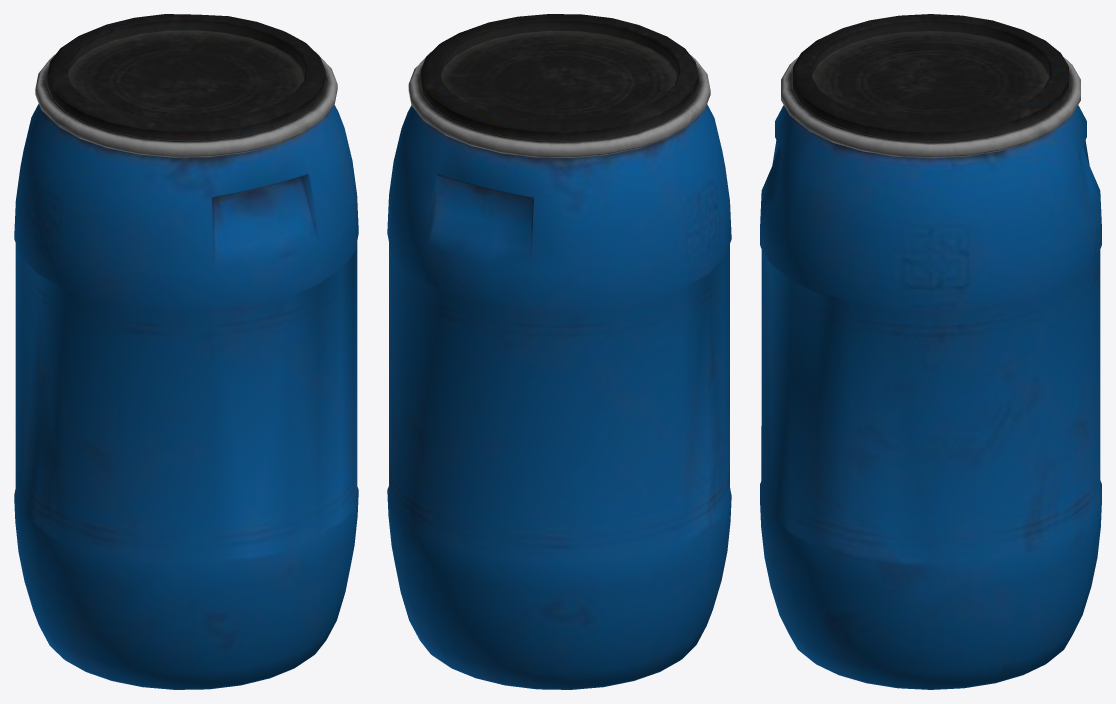
The model's file is Barrel_02.glb.
3 views of the same model, side by side, from view 1: azimuth 30°, elevation 25°; view 2: azimuth 150°, elevation 25°; view 3: azimuth 270°, elevation 25° (orthographic).
Parts seen in each view (by area): view 1: Barrel_02; view 2: Barrel_02; view 3: Barrel_02.
Boxes of the visible parts, left/top/right/bottom form: Barrel_02: left=14, top=14, right=358, bottom=689; Barrel_02: left=387, top=14, right=731, bottom=689; Barrel_02: left=760, top=14, right=1101, bottom=689.
Size of the model in its own units: 0.4882 by 0.88 by 0.4846.
1 material, 1 textured.
